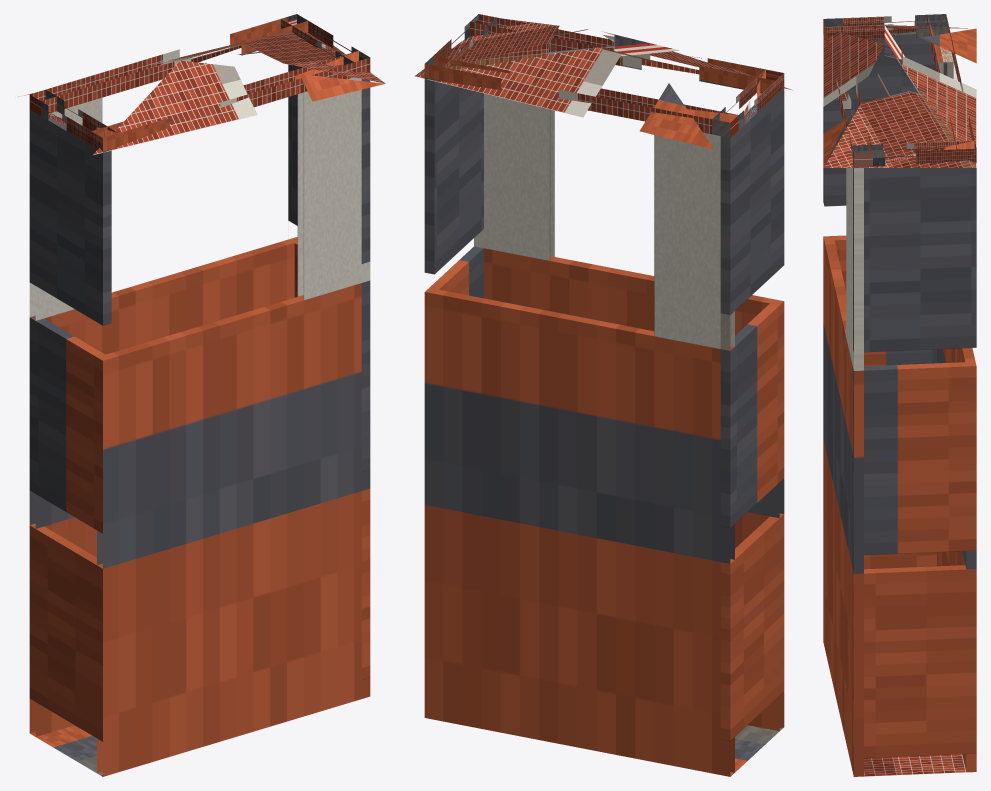
The picture shows the model from 3 angles, left to right: view 1: azimuth 30°, elevation 25°; view 2: azimuth 150°, elevation 25°; view 3: azimuth 270°, elevation 25°; orthographic projection. The views are drawn at different scales.
Parts seen in each view (by area): view 1: 238528914__wall_0_xb, 238528914__wall_3_xb, 238528914__wall_2_xb, 238528914_roof_front_xb, 238528914__wall_1_xb, 238528914__cornice_2, 238528914__cornice_0, 238528914_roof_right_xb, 238528914__base, 238528914__cornice_3, 238528914__cornice_1; view 2: 238528914__wall_2_xb, 238528914__wall_3_xb, 238528914__wall_0_xb, 238528914__wall_1_xb, 238528914_roof_back_xb, 238528914__cornice_2, 238528914_roof_right_xb, 238528914__cornice_0, 238528914__cornice_3, 238528914__base, 238528914__cornice_1; view 3: 238528914__wall_1_xb, 238528914__wall_0_xb, 238528914__wall_3_xb, 238528914_roof_right_xb, 238528914_roof_back_xb, 238528914_roof_front_xb, 238528914__cornice_3, 238528914__cornice_1, 238528914__base, 238528914__wall_2_xb, 238528914__cornice_0, 238528914__cornice_2.
Part boxes in pixels (left/top/right/bottom): 238528914__wall_0_xb: left=97, top=77, right=370, bottom=776; 238528914__wall_3_xb: left=29, top=109, right=111, bottom=741; 238528914__wall_2_xb: left=29, top=98, right=296, bottom=736; 238528914_roof_front_xb: left=93, top=60, right=385, bottom=154; 238528914__wall_1_xb: left=288, top=64, right=370, bottom=679; 238528914__cornice_2: left=29, top=14, right=308, bottom=115; 238528914__cornice_0: left=92, top=51, right=370, bottom=152; 238528914_roof_right_xb: left=147, top=32, right=385, bottom=83; 238528914__base: left=30, top=725, right=102, bottom=776; 238528914__cornice_3: left=41, top=90, right=118, bottom=152; 238528914__cornice_1: left=281, top=14, right=370, bottom=72; 238528914__wall_2_xb: left=424, top=132, right=734, bottom=776; 238528914__wall_3_xb: left=720, top=88, right=784, bottom=740; 238528914__wall_0_xb: left=474, top=53, right=784, bottom=731; 238528914__wall_1_xb: left=424, top=79, right=483, bottom=298; 238528914_roof_back_xb: left=415, top=46, right=714, bottom=149; 238528914__cornice_2: left=424, top=56, right=738, bottom=137; 238528914_roof_right_xb: left=414, top=18, right=679, bottom=76; 238528914__cornice_0: left=470, top=14, right=775, bottom=93; 238528914__cornice_3: left=712, top=69, right=784, bottom=137; 238528914__base: left=730, top=725, right=783, bottom=776; 238528914__cornice_1: left=433, top=14, right=496, bottom=68; 238528914__wall_1_xb: left=853, top=168, right=976, bottom=757; 238528914__wall_0_xb: left=823, top=168, right=863, bottom=776; 238528914__wall_3_xb: left=823, top=31, right=947, bottom=569; 238528914_roof_right_xb: left=823, top=25, right=975, bottom=167; 238528914_roof_back_xb: left=899, top=28, right=976, bottom=167; 238528914_roof_front_xb: left=823, top=32, right=884, bottom=167; 238528914__cornice_3: left=825, top=14, right=947, bottom=39; 238528914__cornice_1: left=852, top=140, right=976, bottom=167; 238528914__base: left=864, top=754, right=965, bottom=776; 238528914__wall_2_xb: left=937, top=47, right=976, bottom=772; 238528914__cornice_0: left=823, top=18, right=872, bottom=167; 238528914__cornice_2: left=927, top=15, right=975, bottom=149.
Size of the model in its own units: 0.5165 by 1.12 by 0.2393.
Materials: 1 (1 with a texture image).
